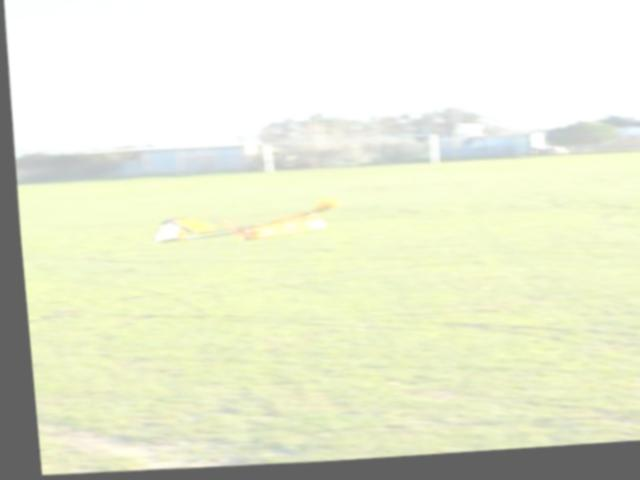iha: (141, 179, 350, 256)
